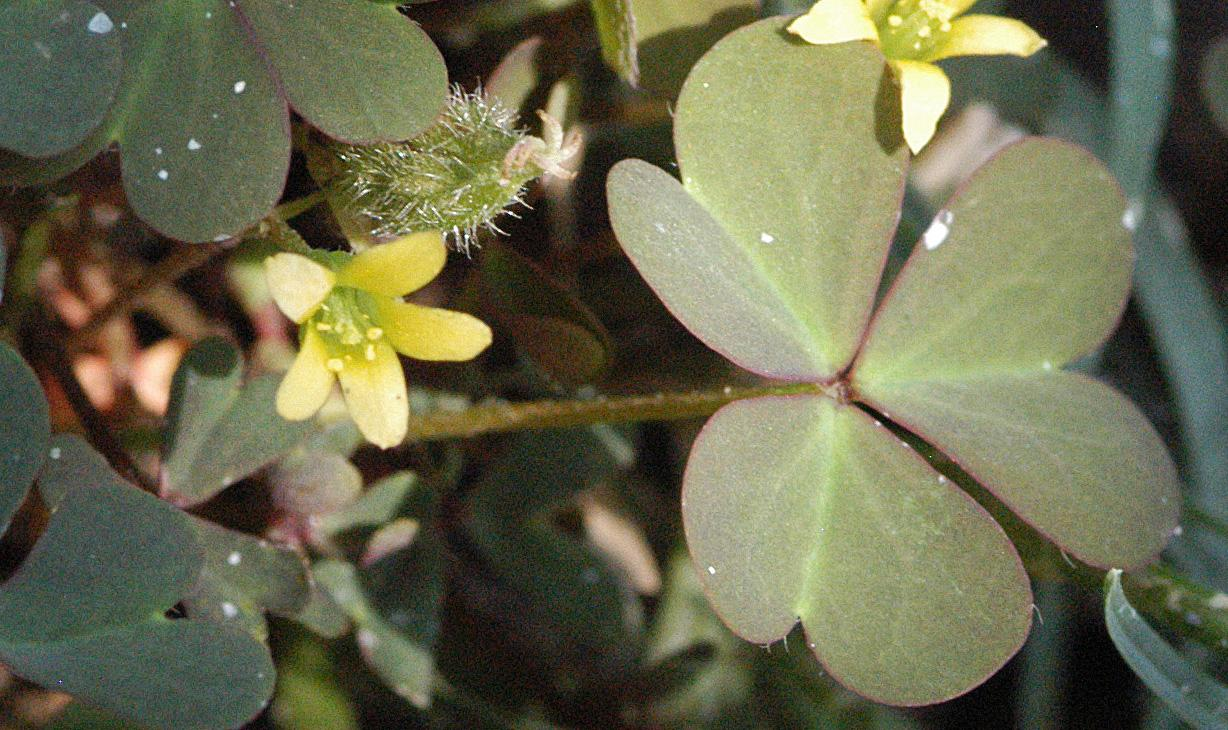oxalis: (635, 21, 1215, 673), (4, 343, 356, 722), (2, 9, 426, 218)
